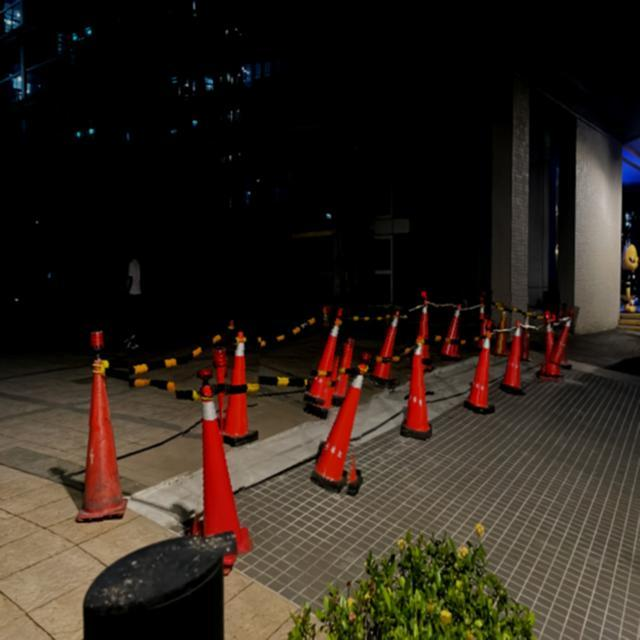traffic cone: (185, 372, 254, 569), (75, 356, 128, 524), (310, 365, 367, 494), (220, 335, 258, 448), (302, 319, 342, 420), (400, 343, 433, 441), (463, 328, 495, 416), (368, 311, 402, 389), (498, 324, 527, 397), (535, 320, 564, 382), (439, 305, 465, 362), (554, 320, 573, 370), (346, 456, 362, 497)
